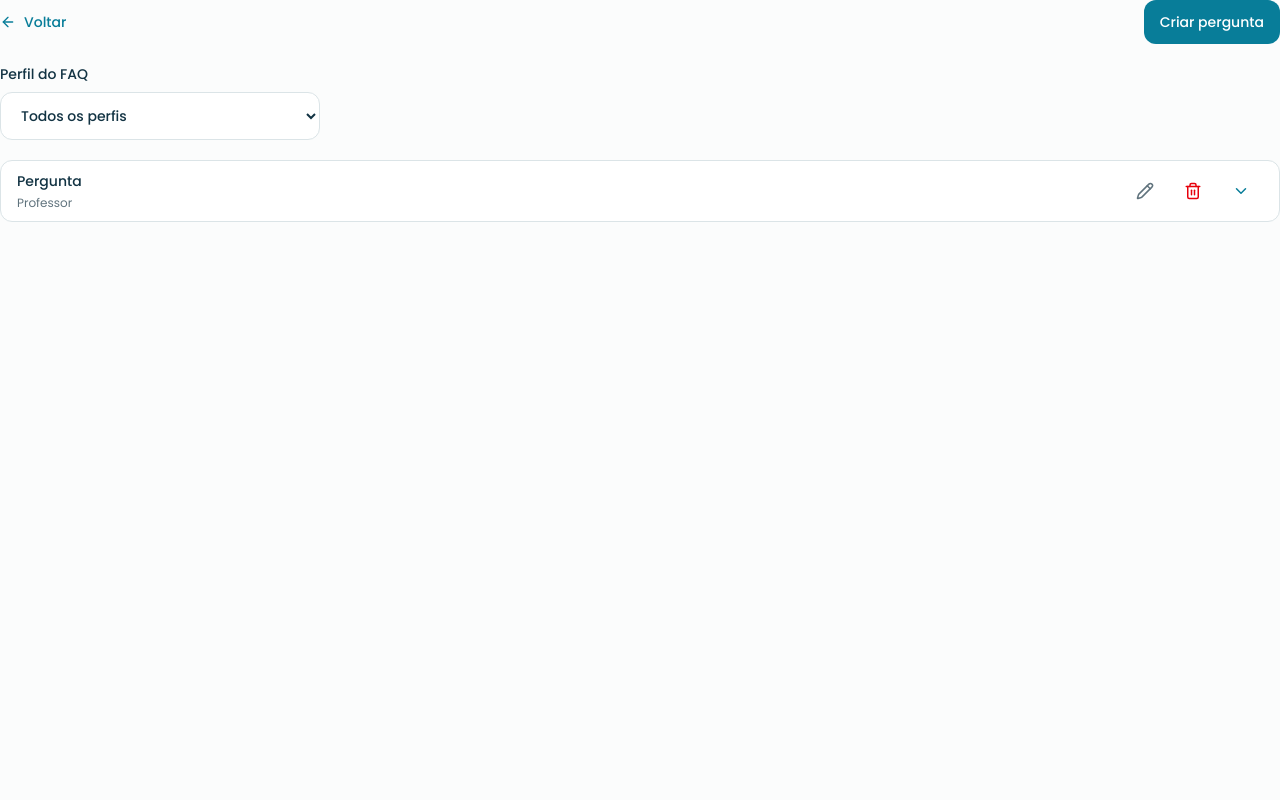
Test: admin confirma exclusão pela lixeira ao lado da edição
The width and height of the screenshot is (1280, 800).
Click the button named "Excluir pergunta: Pergunta".
click(1193, 191)  # box [1171, 169, 1215, 213]
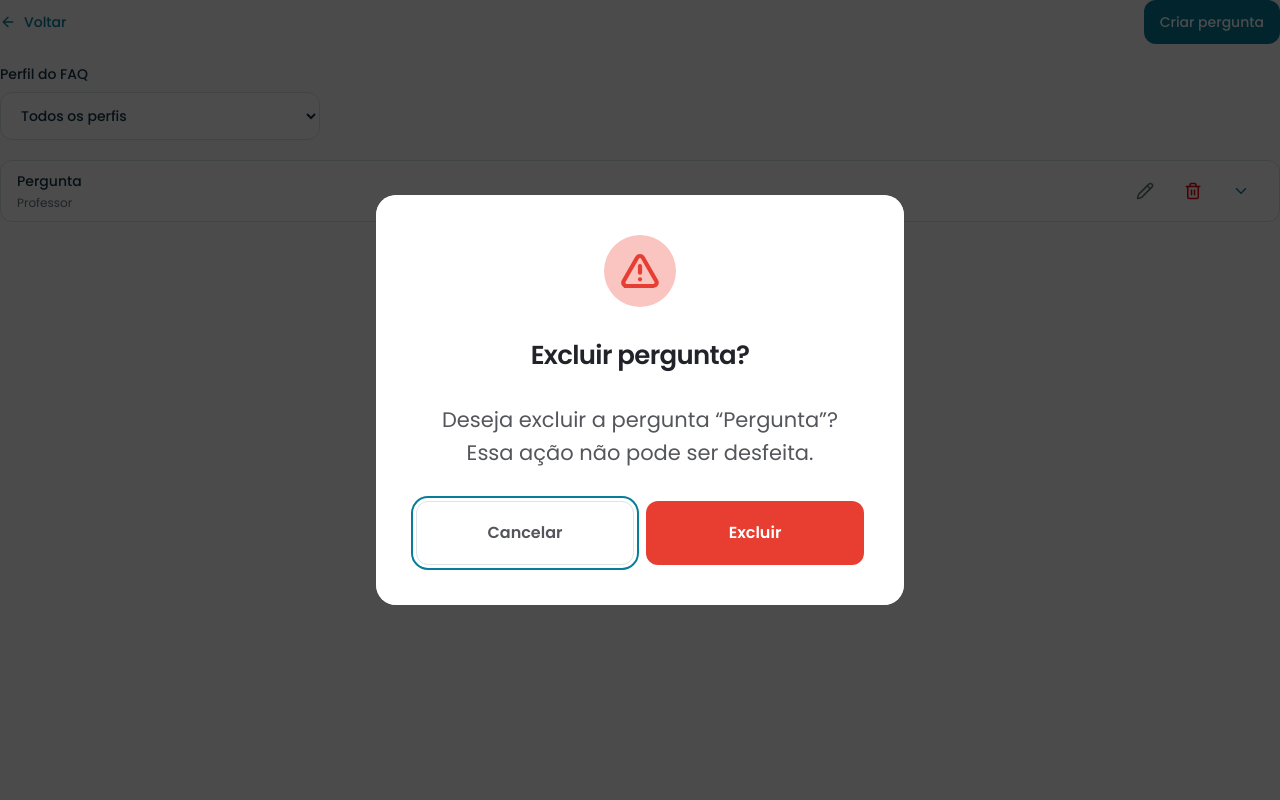
Check: the dialog "Excluir pergunta?" is shown, box [376, 194, 904, 605]
Click the button "Cancelar".
click(525, 533)  # box [416, 501, 634, 565]
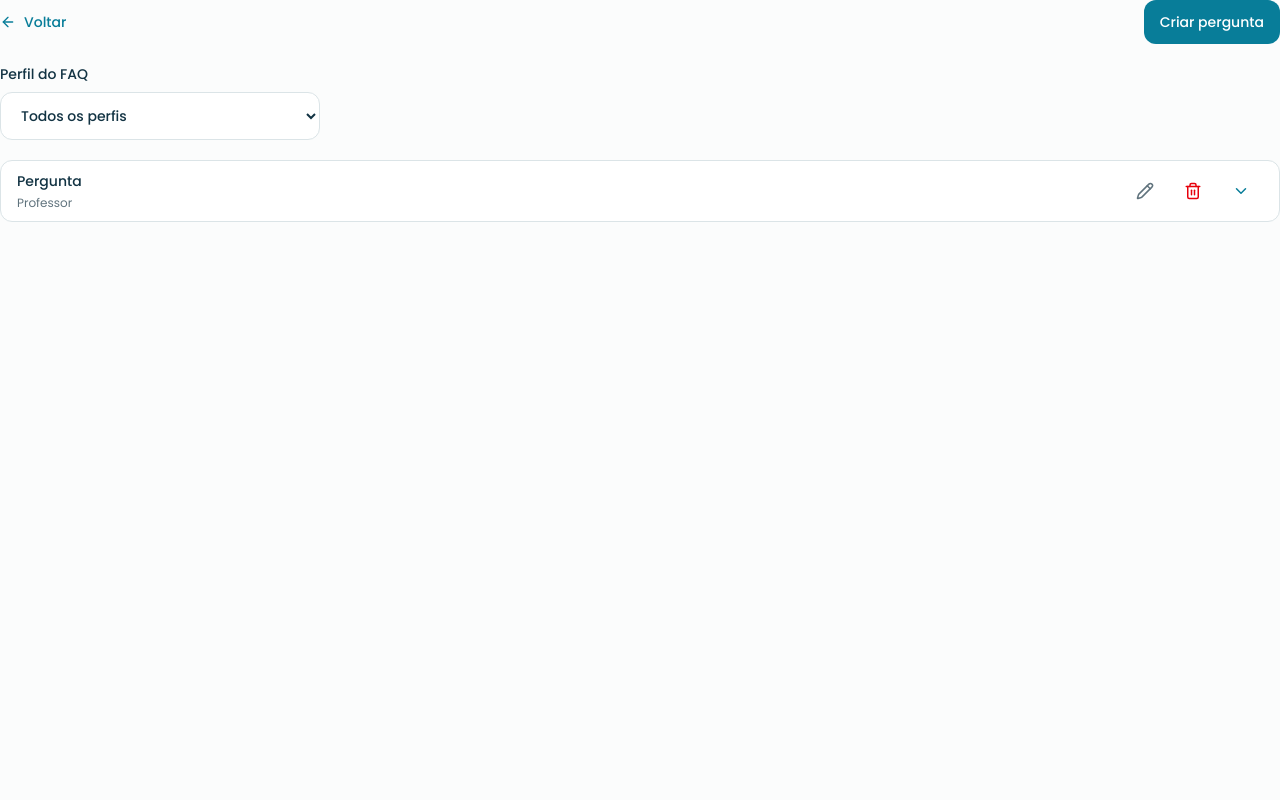
Click the button named "Excluir pergunta: Pergunta".
click(1193, 191)  # box [1171, 169, 1215, 213]
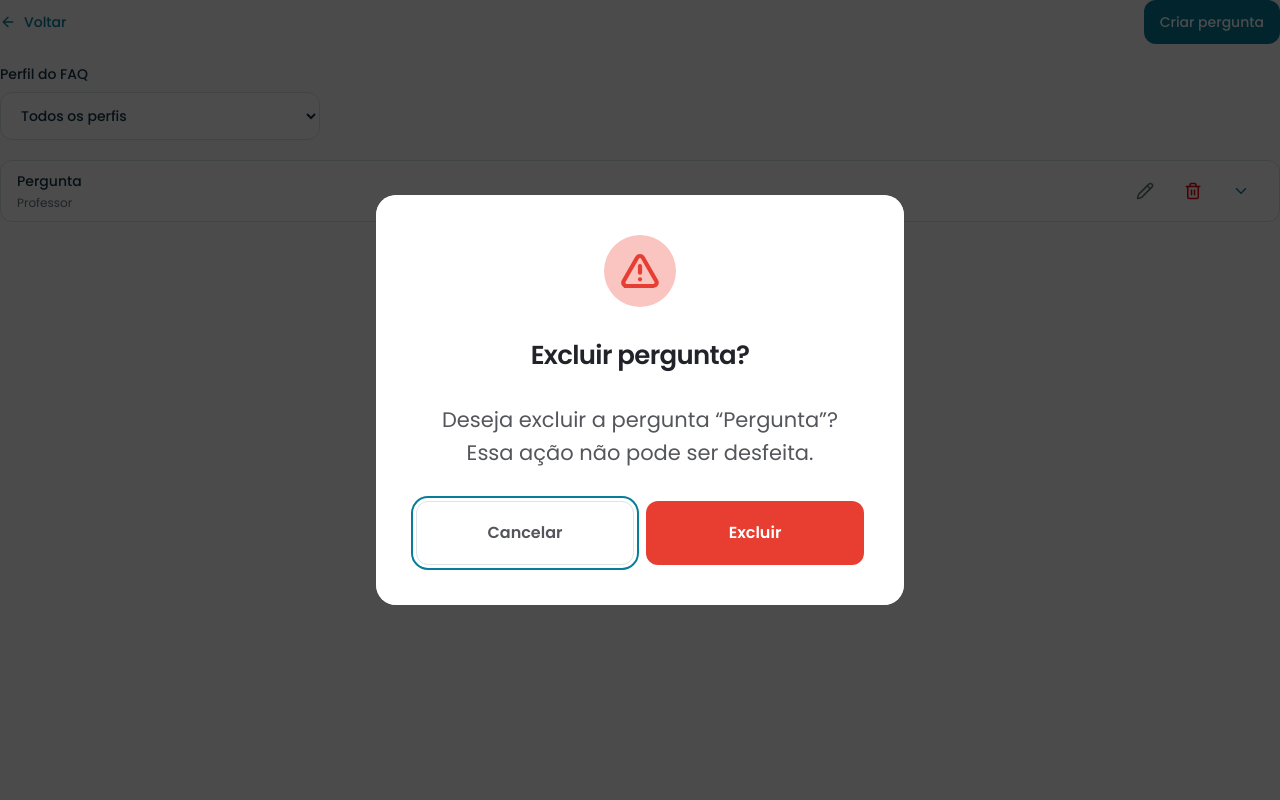
Click the button "Excluir".
click(755, 533)  # box [646, 501, 864, 565]
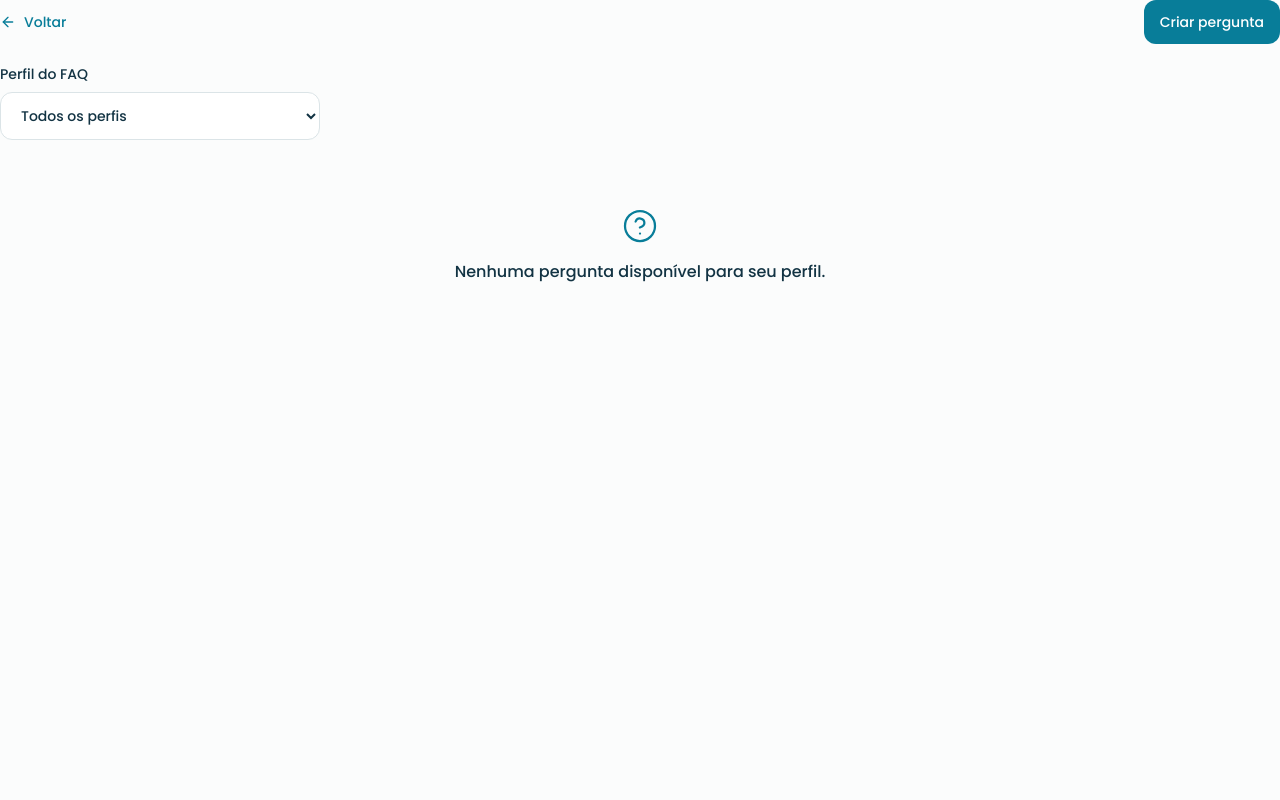
Check: the text "Nenhuma pergunta disponível para seu perfil." is shown, box [455, 260, 825, 284]
